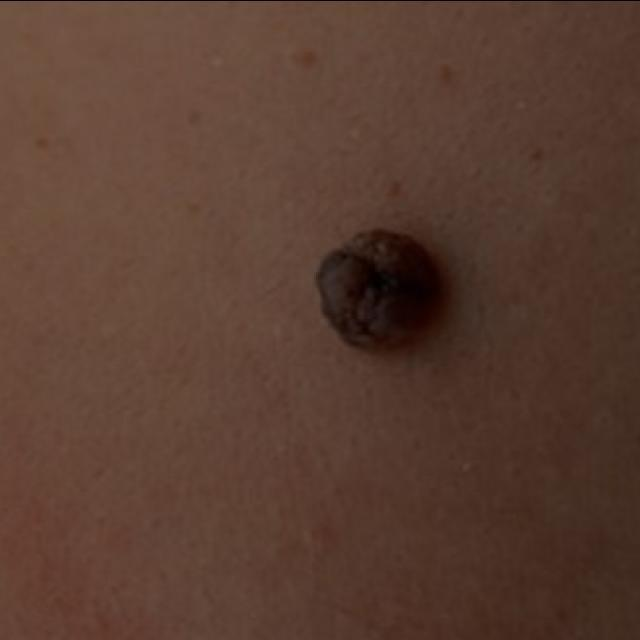wart: (304, 190, 471, 388)
